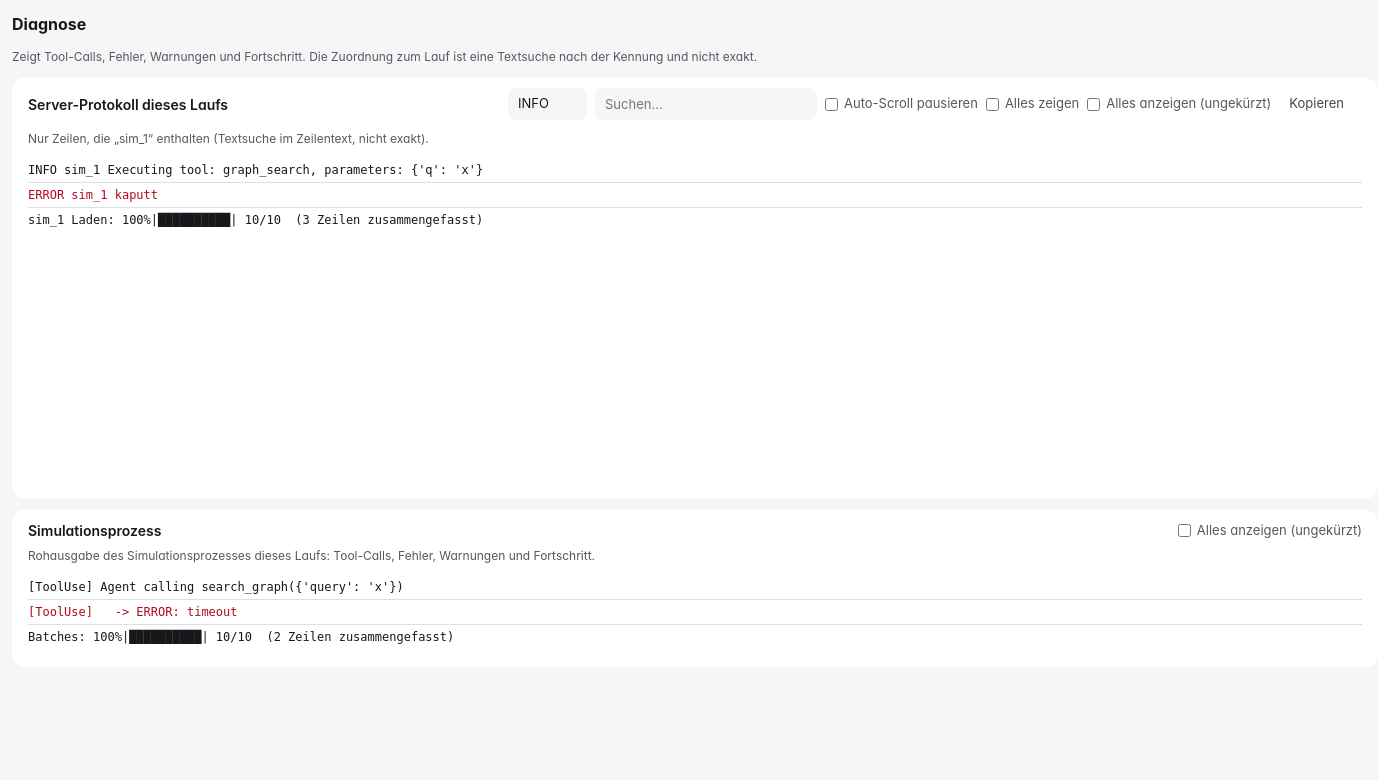
Test: RunSimulationDiagnosticsView › zeigt das Prozessprotokoll als zweite Quelle mit Verdichtung und Fehlererkennung
The width and height of the screenshot is (1378, 780).
Expected: the heading "Simulationsprozess" is shown, [28, 520, 161, 541]
Expected: the elements with class "dpl__line" read "[ToolUse] Agent calling search_graph({'query': 'x'})", "[ToolUse]   -> ERROR: timeout", "Batches: 100%|██████████| 10/10  (2 Zeilen zusammengefasst)", in this order, [28, 580, 404, 594]; [28, 599, 1362, 624]; [28, 624, 1362, 649]
What coordinates should you click on to do the following:
click the checkbox with test id "process-show-all"
I would click on:
 (1184, 530)
Its box is [1178, 524, 1191, 537].
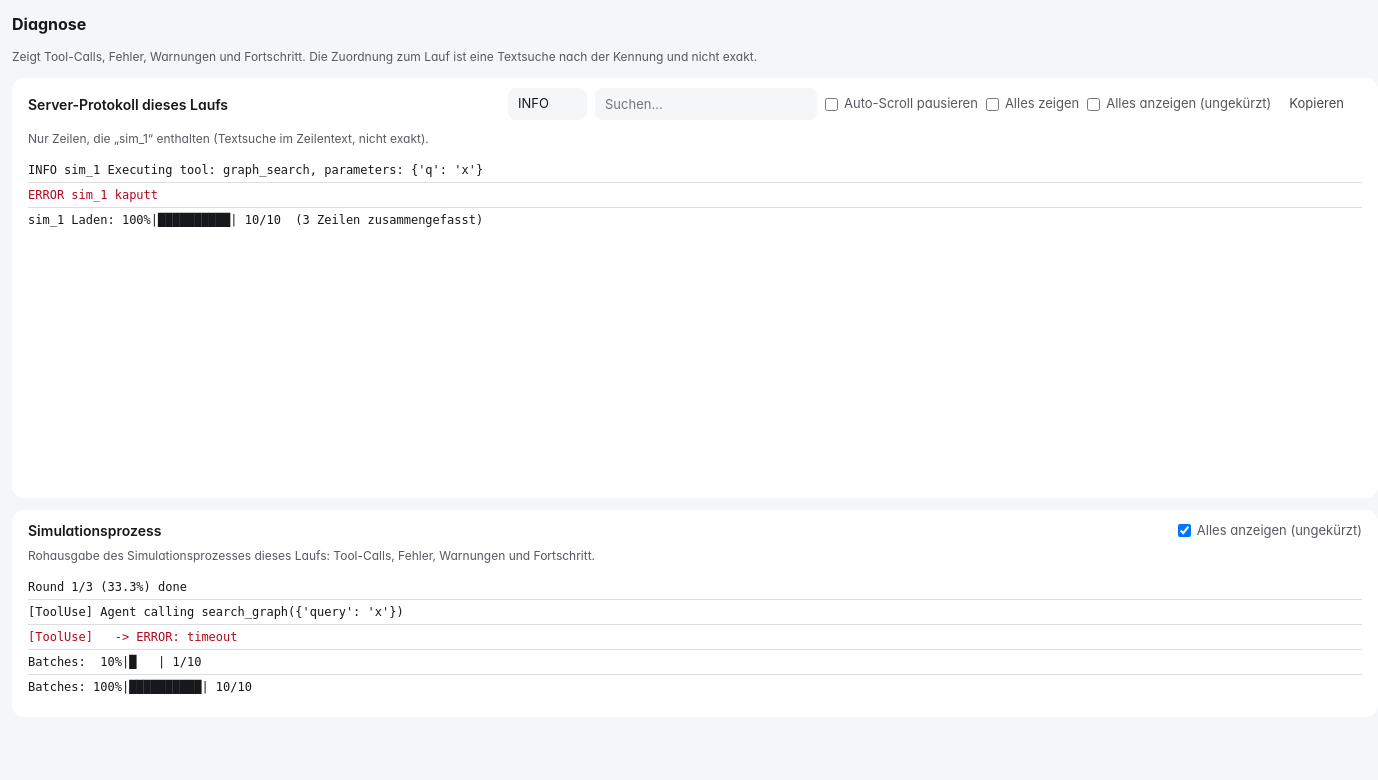
Expected: the number of elements with class "dpl__line" is 5, [28, 580, 187, 594]; [28, 599, 1362, 624]; [28, 624, 1362, 649]; [28, 649, 1362, 674]; [28, 674, 1362, 699]
